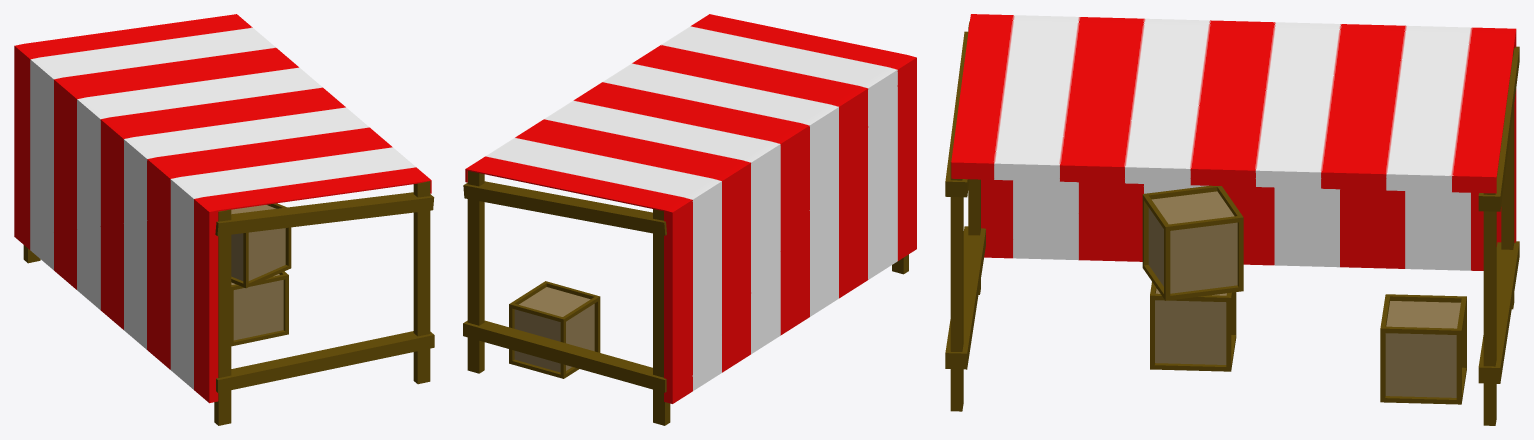
The model's file is Store 1.glb.
The picture shows the model from 3 angles, left to right: view 1: azimuth 30°, elevation 25°; view 2: azimuth 150°, elevation 25°; view 3: azimuth 270°, elevation 25°; orthographic projection. The views are drawn at different scales.
Parts seen in each view (by area): view 1: Stall002_01 - Default_0; view 2: Stall002_01 - Default_0; view 3: Stall002_01 - Default_0.
Boxes of the visible parts, x1,y1,x2,y2 form: Stall002_01 - Default_0: (14, 14, 434, 425); Stall002_01 - Default_0: (463, 14, 916, 425); Stall002_01 - Default_0: (945, 14, 1519, 425).
Size of the model in its own units: 4.45 by 3.82 by 7.42.
Materials: 4 (4 with a texture image).
